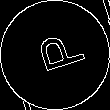P_W: (25, 30, 85, 80)
